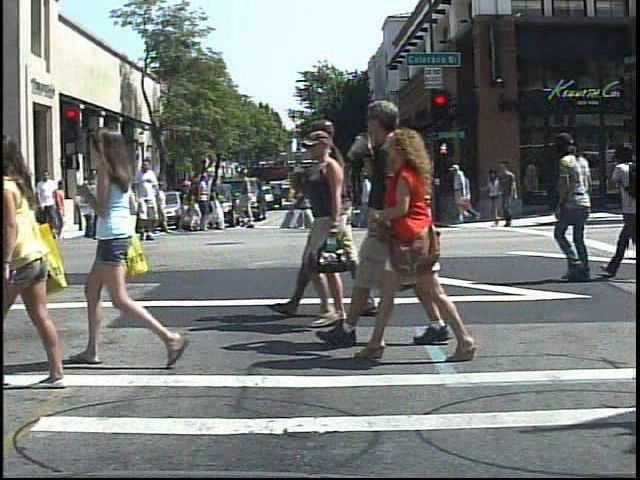person: (329, 87, 450, 348), (361, 116, 478, 363), (76, 113, 174, 376), (0, 128, 66, 389), (548, 129, 601, 281), (130, 160, 164, 243), (88, 162, 118, 241), (35, 167, 64, 244), (452, 163, 474, 226), (12, 181, 33, 242), (93, 181, 113, 220)
